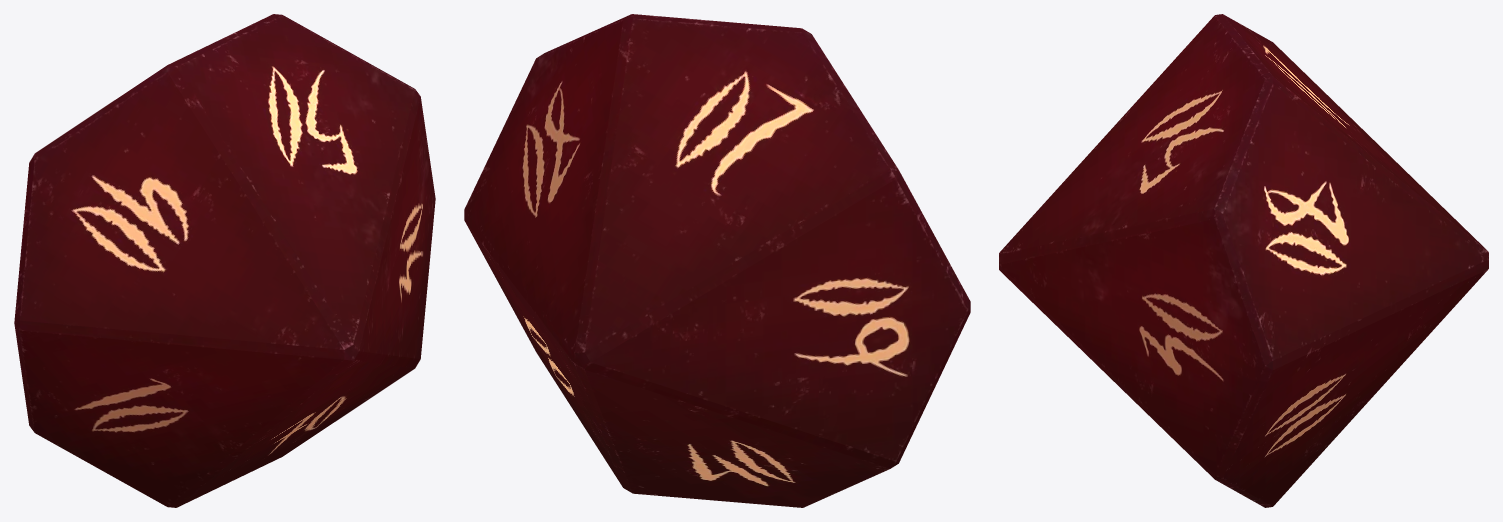
The model's file is DragonGem_d100.gltf.
3 views of the same model, side by side, from view 1: azimuth 30°, elevation 25°; view 2: azimuth 150°, elevation 25°; view 3: azimuth 270°, elevation 25° (orthographic). The views are drawn at different scales.
Parts seen in each view (by area): view 1: dragongem_d100; view 2: dragongem_d100; view 3: dragongem_d100.
Part boxes in pixels (bbox=[...]): dragongem_d100: bbox=[14, 14, 435, 507]; dragongem_d100: bbox=[464, 14, 970, 507]; dragongem_d100: bbox=[999, 14, 1488, 507].
Bounding box in the file's own units: 175 × 166 × 172.
1 material, 1 textured.
